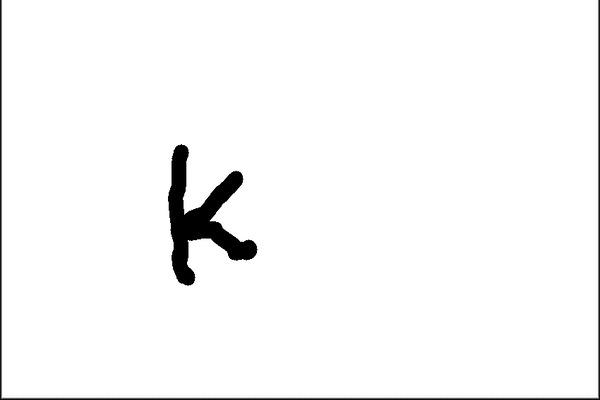K: (160, 138, 262, 287)
